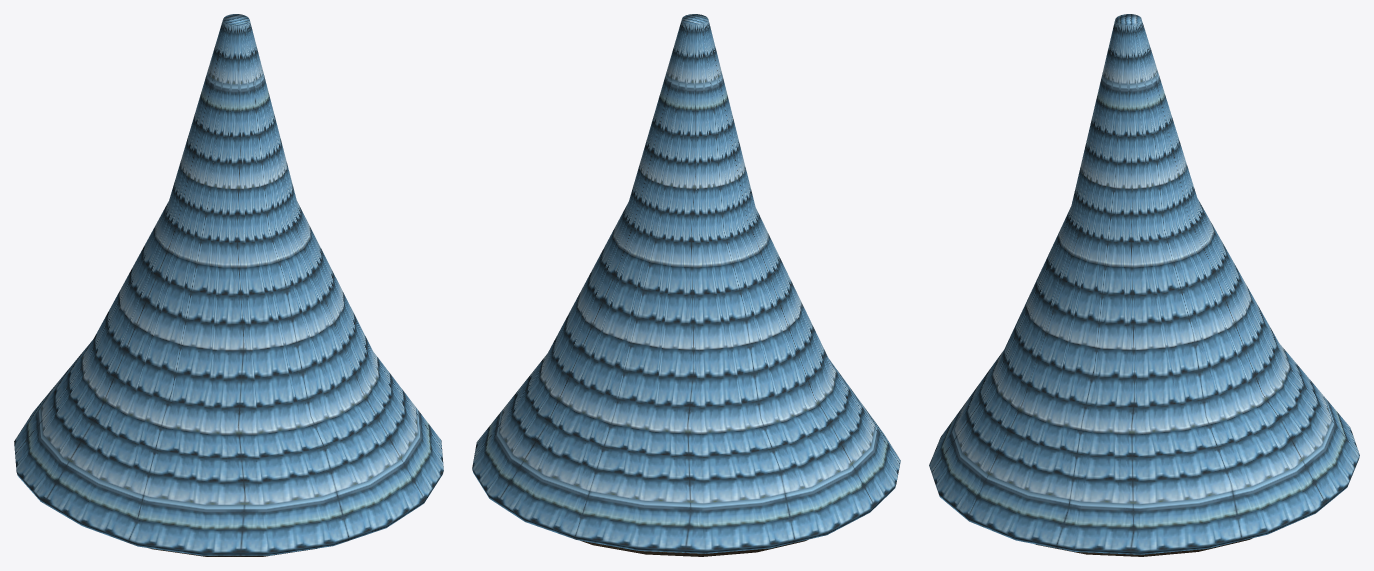
The model's file is round_blue_tiled_roof.fbx.
3 renders of one model, left to right at view 1: azimuth 30°, elevation 25°; view 2: azimuth 150°, elevation 25°; view 3: azimuth 270°, elevation 25°, orthographic.
Visible parts, largest first — view 1: Roof_Round_03a; view 2: Roof_Round_03a; view 3: Roof_Round_03a.
Part boxes in pixels (x1,y1,x2,y2): Roof_Round_03a: [14, 14, 443, 556]; Roof_Round_03a: [472, 14, 900, 556]; Roof_Round_03a: [929, 14, 1359, 556].
Size of the model in its own units: 821 by 980 by 820.
